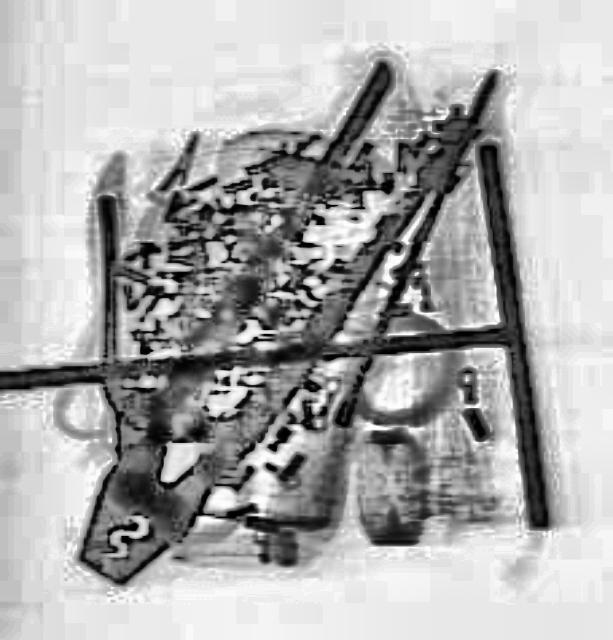Pliers: (37, 54, 485, 602)
